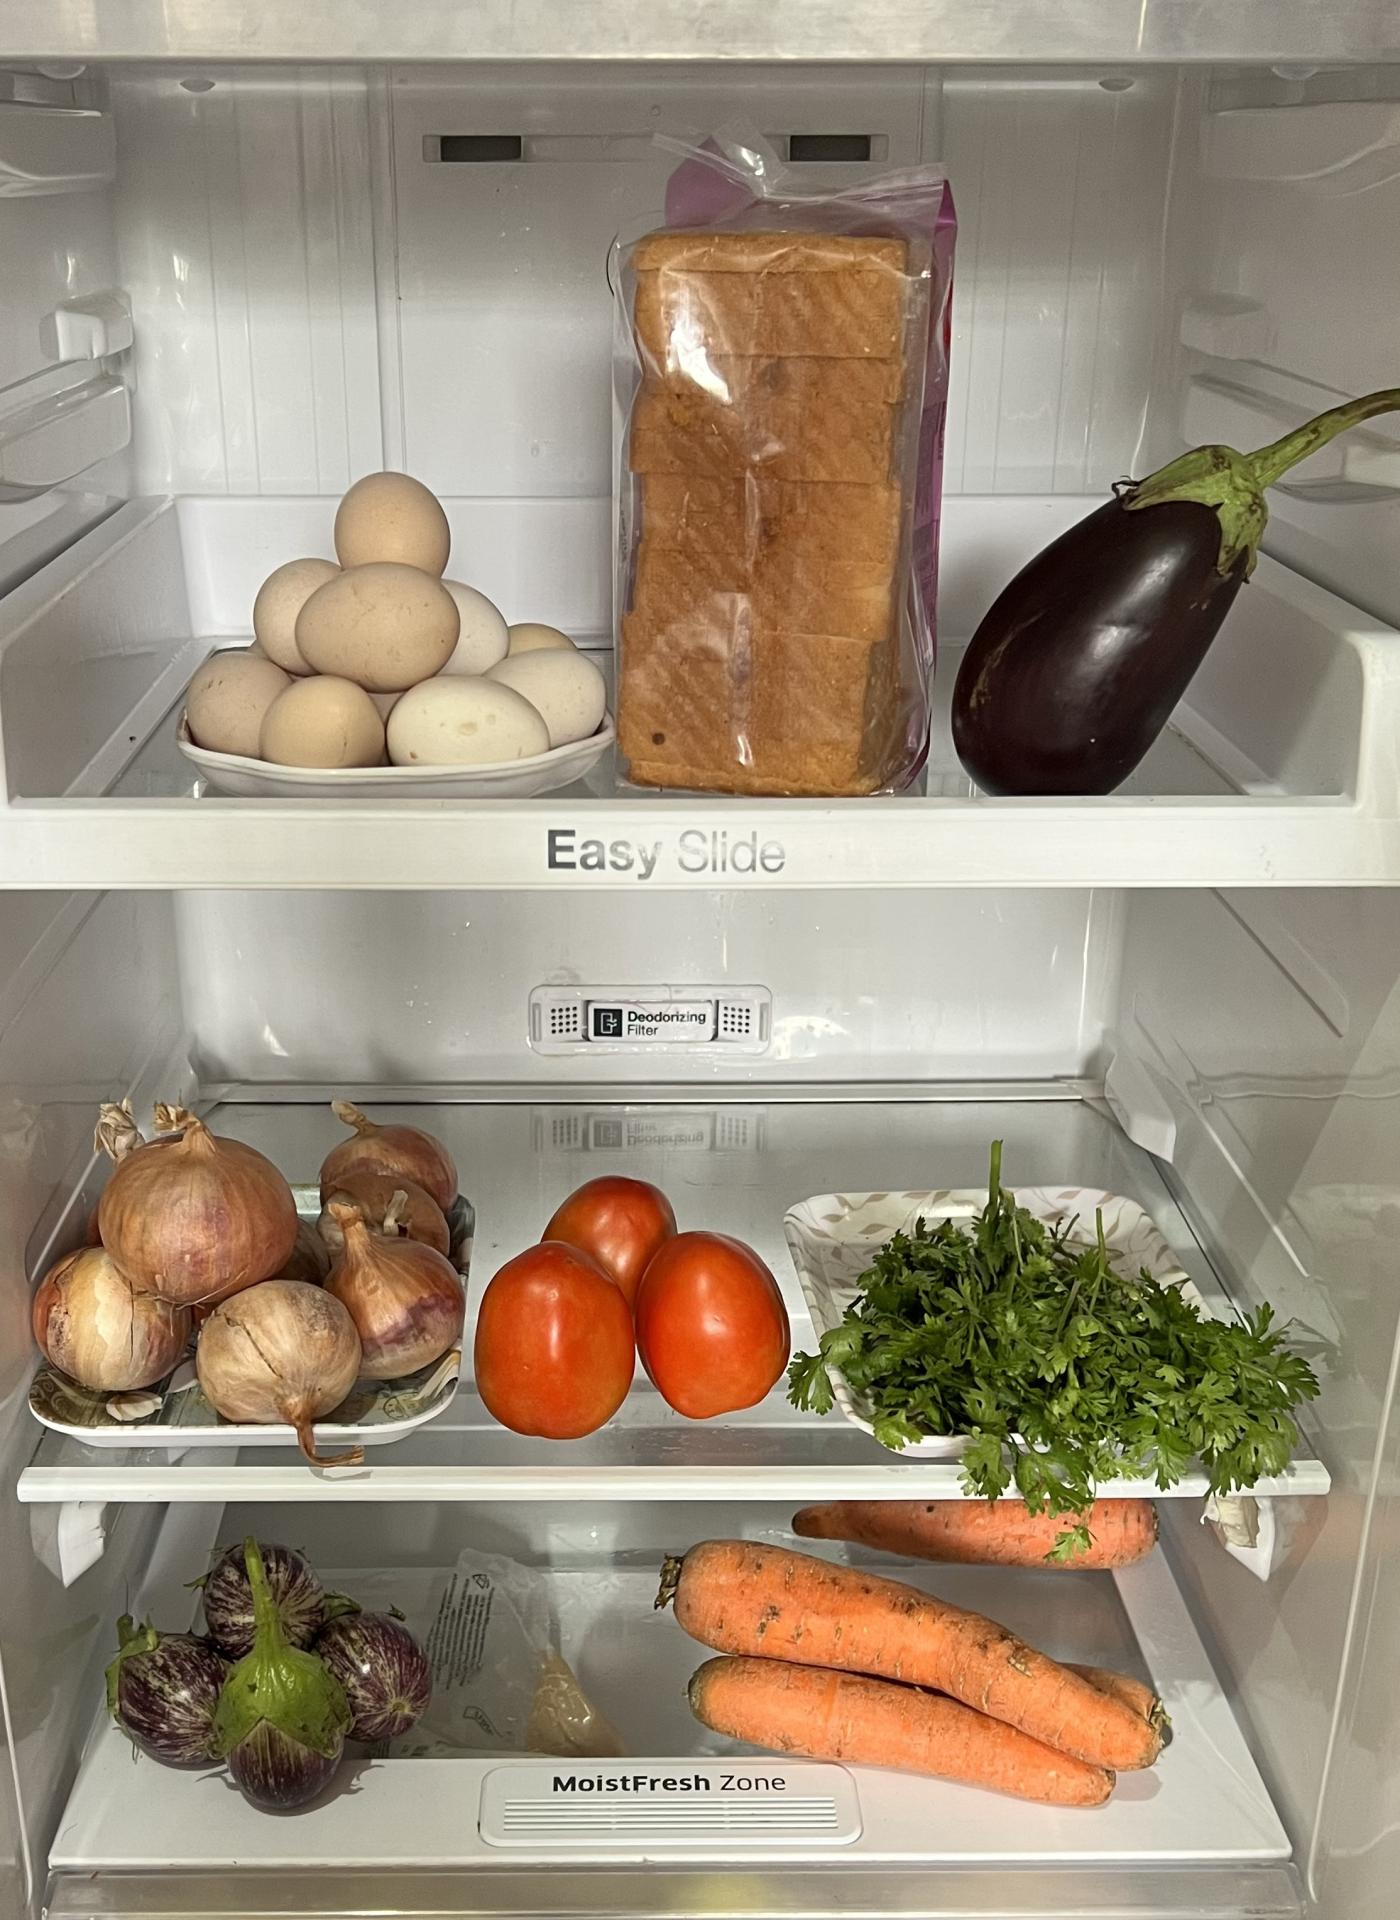bread: (598, 167, 947, 802)
carrots: (659, 1529, 1155, 1814)
coriander: (833, 1206, 1305, 1495)
egg: (186, 467, 595, 775)
onion: (25, 1097, 465, 1425)
tomato: (482, 1176, 783, 1431)
